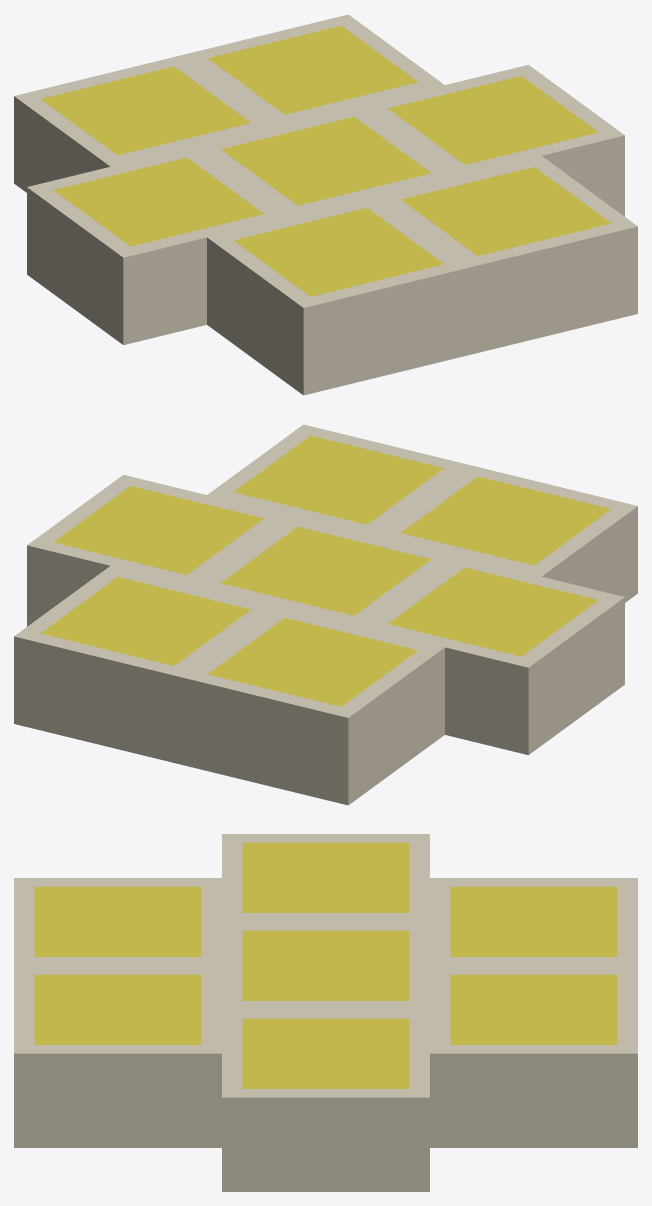
Rendered from square.glb.
3 views of the same model, one above another, from view 1: azimuth 30°, elevation 25°; view 2: azimuth 150°, elevation 25°; view 3: azimuth 270°, elevation 25° (orthographic). The views are drawn at different scales.
Parts seen in each view (by area): view 1: Mesh_Mesh_head_geo.001_lambert2SG.001; view 2: Mesh_Mesh_head_geo.001_lambert2SG.001; view 3: Mesh_Mesh_head_geo.001_lambert2SG.001.
Boxes of the visible parts, x1,y1,x2,y2 form: Mesh_Mesh_head_geo.001_lambert2SG.001: (14,14,637,395); Mesh_Mesh_head_geo.001_lambert2SG.001: (14,424,637,805); Mesh_Mesh_head_geo.001_lambert2SG.001: (14,834,637,1191).
Size of the model in its own units: 60 by 10 by 60.
